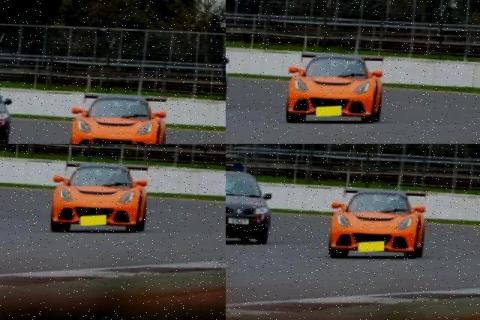LicensePlate: (314, 61, 389, 110), (11, 292, 94, 319), (361, 241, 387, 252), (229, 218, 249, 225)
